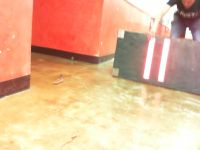switch: (157, 38, 171, 82), (142, 37, 156, 80)
